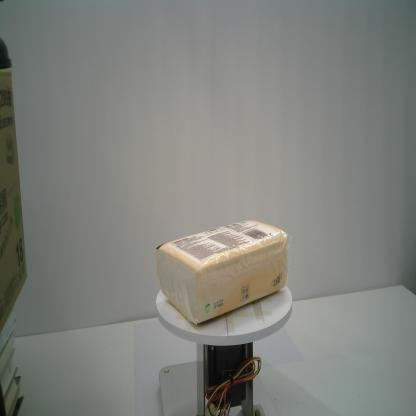Tissue: (153, 217, 289, 324)
